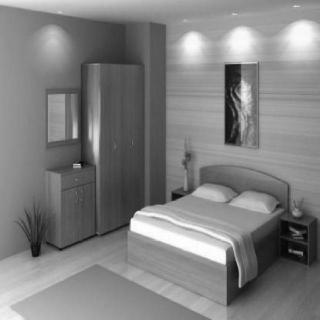other: (176, 22, 320, 56), (40, 22, 69, 66)
